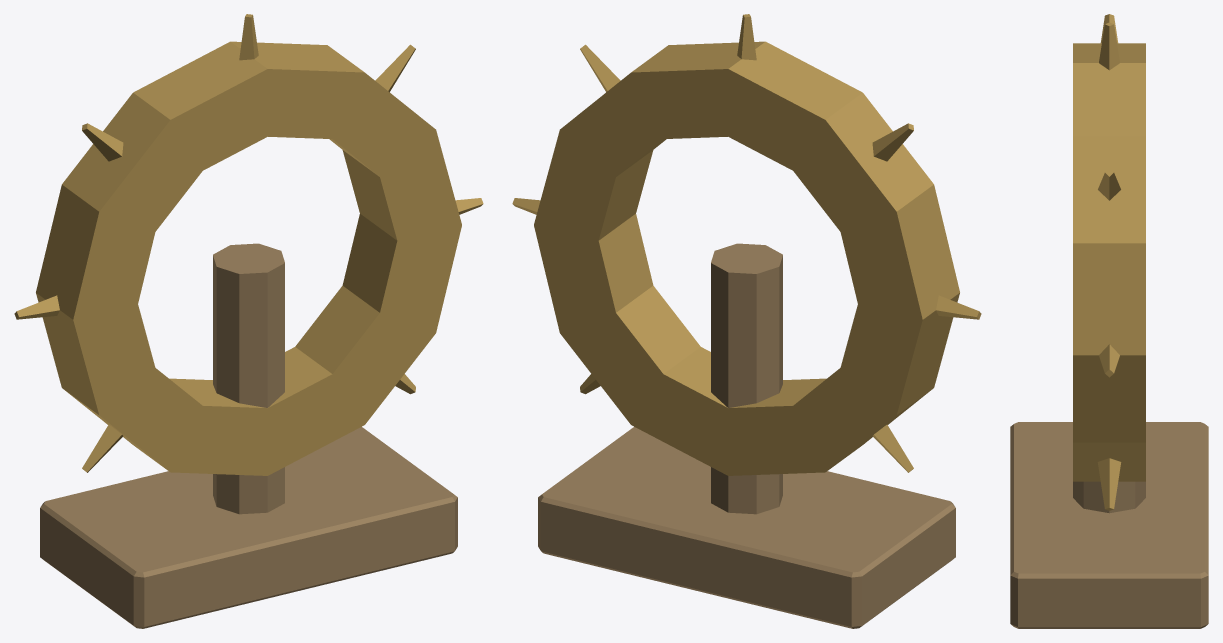
Rendered from sun-disc.glb.
3 views of the same model, side by side, from view 1: azimuth 30°, elevation 25°; view 2: azimuth 150°, elevation 25°; view 3: azimuth 270°, elevation 25° (orthographic). The views are drawn at different scales.
Visible parts, largest first — view 1: sun-disc__body; view 2: sun-disc__body; view 3: sun-disc__body.
Boxes of the visible parts, <box> form: sun-disc__body: <box>14,14,483,628</box>; sun-disc__body: <box>512,14,981,628</box>; sun-disc__body: <box>1010,14,1208,628</box>.
Size of the model in its own units: 1.72 by 1.91 by 0.65.
